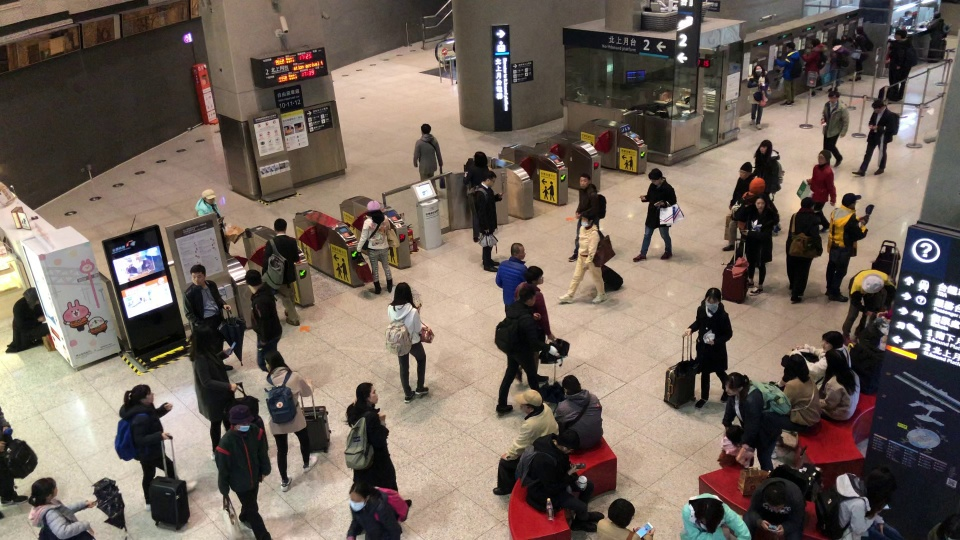person_head: (865, 465, 897, 502), (347, 380, 378, 414), (29, 475, 58, 506), (605, 498, 636, 527), (695, 500, 722, 530), (228, 403, 255, 432), (347, 479, 371, 511), (514, 389, 543, 415), (823, 348, 848, 377), (123, 383, 155, 405), (189, 324, 214, 352), (724, 371, 750, 397), (784, 354, 809, 380), (764, 483, 786, 512), (556, 429, 581, 454), (392, 280, 413, 304), (264, 349, 285, 373), (861, 273, 884, 294), (704, 286, 723, 311), (524, 264, 545, 286), (188, 263, 208, 286), (821, 330, 844, 350), (841, 191, 862, 211), (561, 373, 582, 393), (518, 285, 537, 307), (725, 425, 744, 446), (245, 268, 263, 290), (942, 517, 959, 540), (22, 286, 40, 307), (748, 175, 765, 194), (578, 209, 594, 229), (737, 160, 753, 180), (272, 216, 289, 234), (366, 199, 382, 218), (510, 241, 526, 260), (472, 150, 489, 167), (816, 148, 833, 165), (647, 167, 663, 184), (869, 97, 886, 113), (756, 139, 773, 155), (202, 187, 217, 204), (482, 169, 497, 186), (754, 193, 768, 211), (578, 172, 591, 190), (799, 197, 815, 210), (420, 122, 432, 137), (828, 89, 840, 102), (753, 64, 765, 75), (809, 37, 821, 48), (785, 41, 796, 52), (895, 28, 906, 39), (853, 25, 865, 35), (831, 36, 841, 46), (932, 11, 941, 18)
person_vbox: (113, 383, 199, 511), (515, 429, 606, 533), (344, 381, 413, 510), (492, 284, 559, 415), (213, 402, 273, 540), (262, 348, 319, 492), (490, 387, 559, 496), (721, 371, 791, 472), (812, 464, 902, 540), (188, 325, 238, 460), (741, 463, 823, 538), (684, 286, 733, 409), (181, 263, 235, 373), (768, 353, 822, 459), (384, 281, 430, 404), (556, 210, 609, 306), (824, 191, 869, 303), (768, 330, 852, 390), (513, 265, 555, 384), (631, 167, 678, 263), (0, 406, 39, 520), (27, 476, 96, 540), (784, 196, 824, 304), (737, 196, 780, 296), (263, 217, 301, 330), (850, 96, 901, 179), (840, 268, 895, 344), (244, 267, 283, 372), (465, 168, 503, 273), (345, 479, 409, 540), (555, 373, 604, 451), (566, 170, 607, 262), (355, 199, 393, 296), (680, 492, 751, 540), (814, 349, 860, 422), (720, 161, 754, 250), (753, 139, 784, 235), (5, 286, 46, 355), (806, 147, 838, 233), (819, 87, 851, 168), (596, 498, 656, 540), (494, 241, 527, 317), (412, 121, 443, 200), (462, 151, 487, 243), (887, 28, 917, 103), (774, 41, 803, 109), (737, 175, 766, 233), (716, 423, 753, 468), (746, 63, 771, 127), (801, 35, 826, 97), (848, 24, 874, 83), (194, 187, 228, 230), (828, 36, 851, 94), (926, 517, 959, 540), (926, 10, 951, 39)
